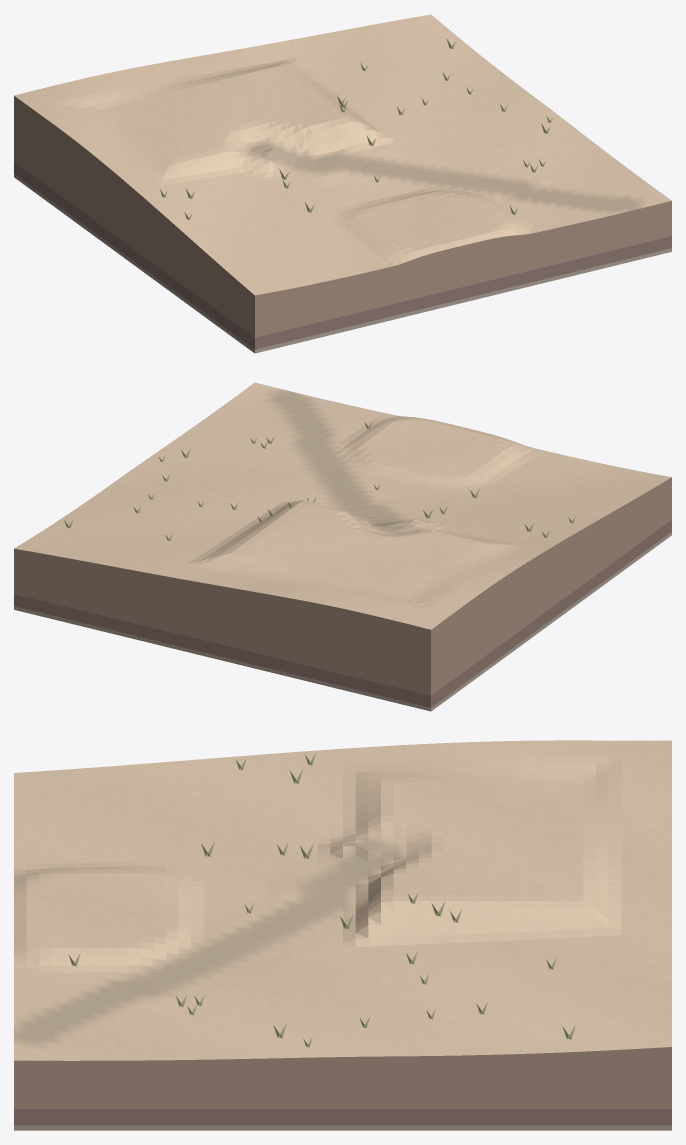
3 views of the same model, one above another, from view 1: azimuth 30°, elevation 25°; view 2: azimuth 150°, elevation 25°; view 3: azimuth 270°, elevation 25° (orthographic). The views are drawn at different scales.
Visible parts, largest first — view 1: proc_ground, proc_skirt, proc_grass; view 2: proc_ground, proc_skirt, proc_grass; view 3: proc_ground, proc_skirt, proc_grass.
Boxes of the visible parts, bbox=[...] form: proc_ground: bbox=[14, 14, 671, 295]; proc_skirt: bbox=[14, 96, 671, 353]; proc_grass: bbox=[160, 39, 552, 219]; proc_ground: bbox=[14, 382, 671, 629]; proc_skirt: bbox=[14, 477, 671, 711]; proc_grass: bbox=[64, 421, 575, 540]; proc_ground: bbox=[14, 740, 671, 1060]; proc_skirt: bbox=[14, 1047, 671, 1130]; proc_grass: bbox=[68, 753, 575, 1047].
Bounding box in the file's own units: 8 × 1.55 × 8.
